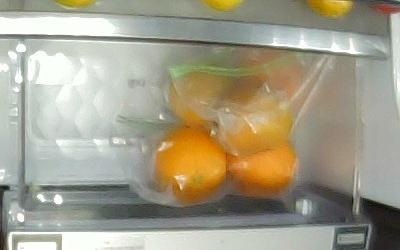orange_vinyl: (155, 128, 227, 203), (219, 88, 294, 154), (225, 141, 298, 195), (169, 70, 224, 127)
